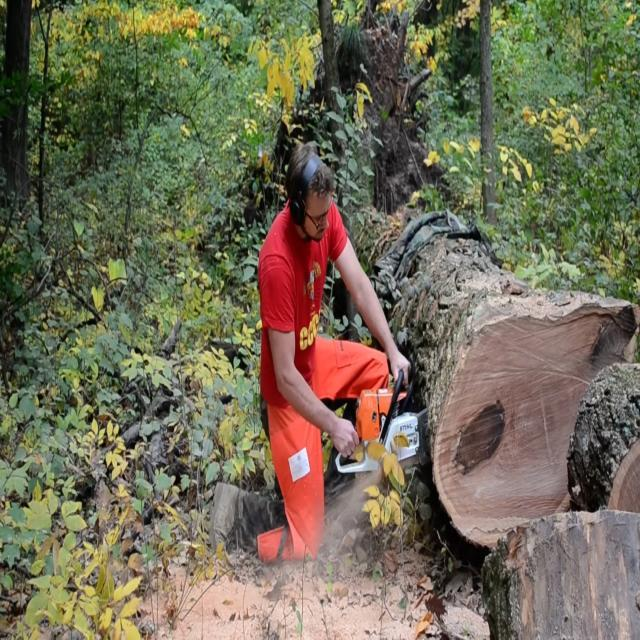Chainsaw: (314, 352, 458, 494)
